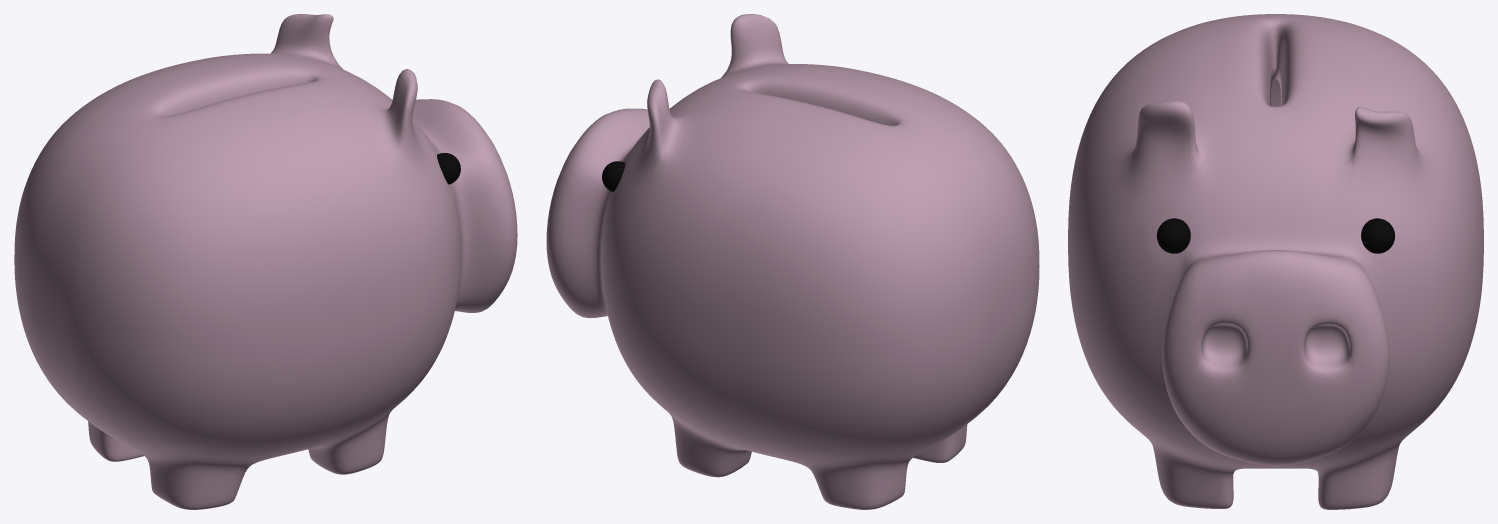
Rendered from Piggybank_AT.fbx.
3 views of the same model, side by side, from view 1: azimuth 30°, elevation 25°; view 2: azimuth 150°, elevation 25°; view 3: azimuth 270°, elevation 25° (orthographic). The views are drawn at different scales.
Parts seen in each view (by area): view 1: pig; view 2: pig; view 3: pig.
Part boxes in pixels (x1,y1,x2,y2): pig: (14, 14, 517, 509); pig: (546, 14, 1039, 509); pig: (1068, 14, 1483, 509).
Size of the model in its own units: 1278 by 1089 by 972.
